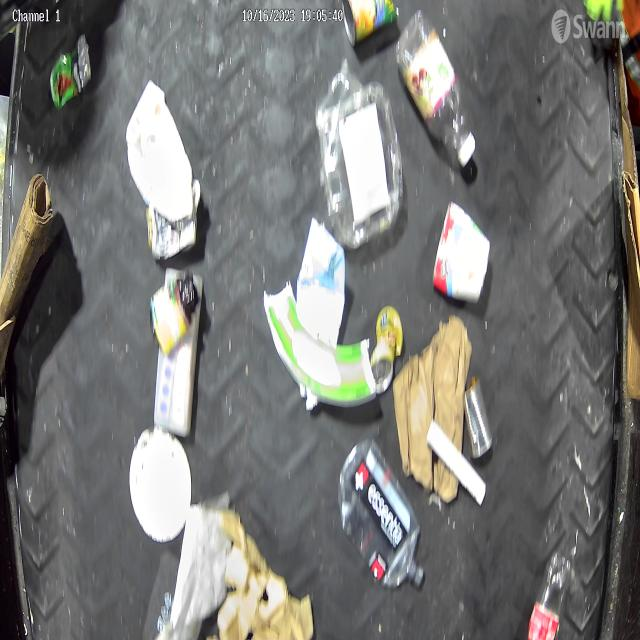can: (432, 198, 490, 303), (146, 179, 202, 259), (48, 32, 92, 110), (369, 304, 405, 398), (342, 0, 400, 46), (463, 376, 492, 460)
milk_jug: (125, 78, 194, 221), (296, 215, 348, 346)
plastic_bottle: (338, 436, 425, 593), (396, 10, 477, 164), (527, 549, 573, 640)
